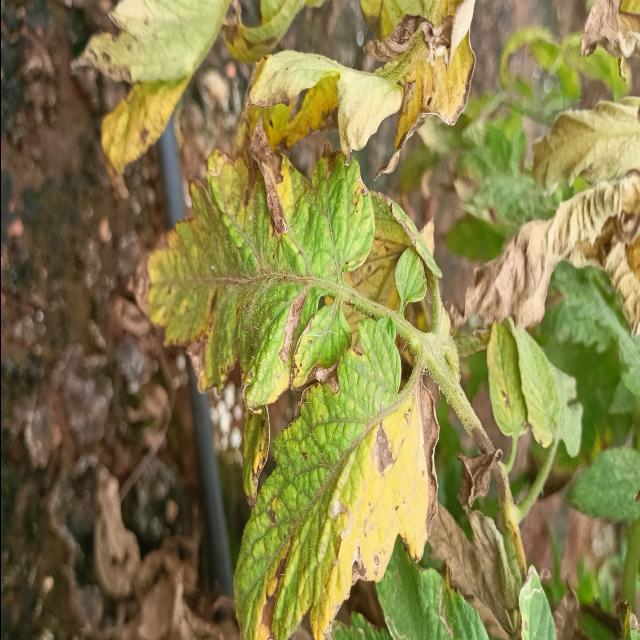Tomato mosaic virus leaf: (122, 110, 378, 418), (228, 316, 440, 638)
